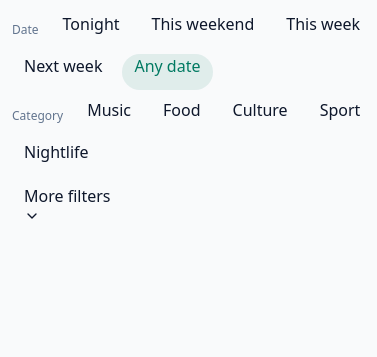
EventBrowseFilters › collapses Neighborhood and Price behind an accessible More filters toggle on phones
This screenshot has width=377, height=357.
Click the button "More filters": (67, 204) [12,184,122,224]
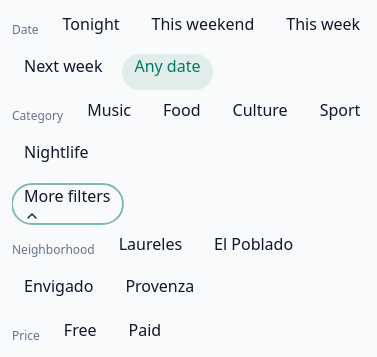
Result: the button "More filters" is expanded at [12,184,122,224]
